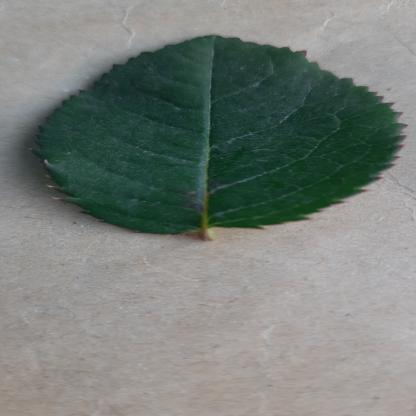normal: (27, 34, 406, 234)
